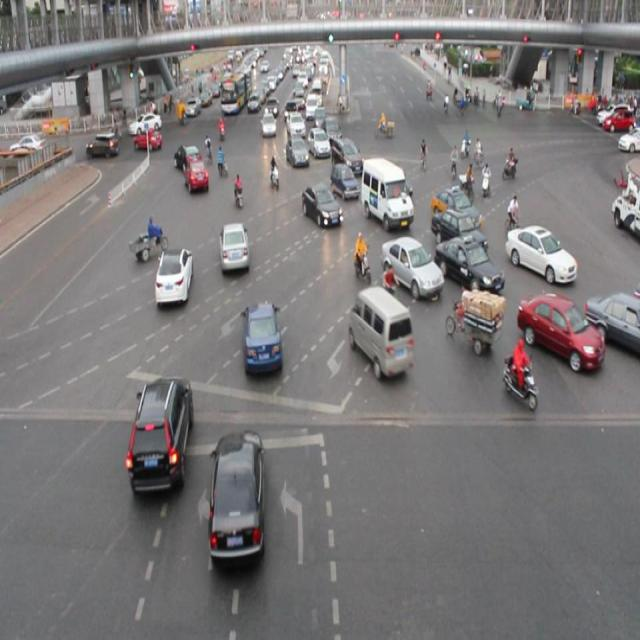car: (125, 375, 194, 493), (208, 429, 266, 568), (517, 295, 600, 371), (504, 222, 574, 283), (434, 234, 503, 295), (240, 297, 284, 379), (380, 237, 442, 295), (585, 290, 640, 348), (430, 206, 486, 252), (153, 245, 194, 305), (430, 182, 479, 228), (301, 184, 342, 228), (217, 220, 250, 273), (375, 164, 414, 208), (329, 133, 362, 175), (328, 161, 359, 202), (84, 130, 119, 162), (182, 159, 211, 195), (172, 140, 202, 172), (284, 133, 308, 168), (306, 125, 330, 159), (134, 128, 162, 154)
truck: (349, 286, 415, 377), (361, 156, 412, 229)
